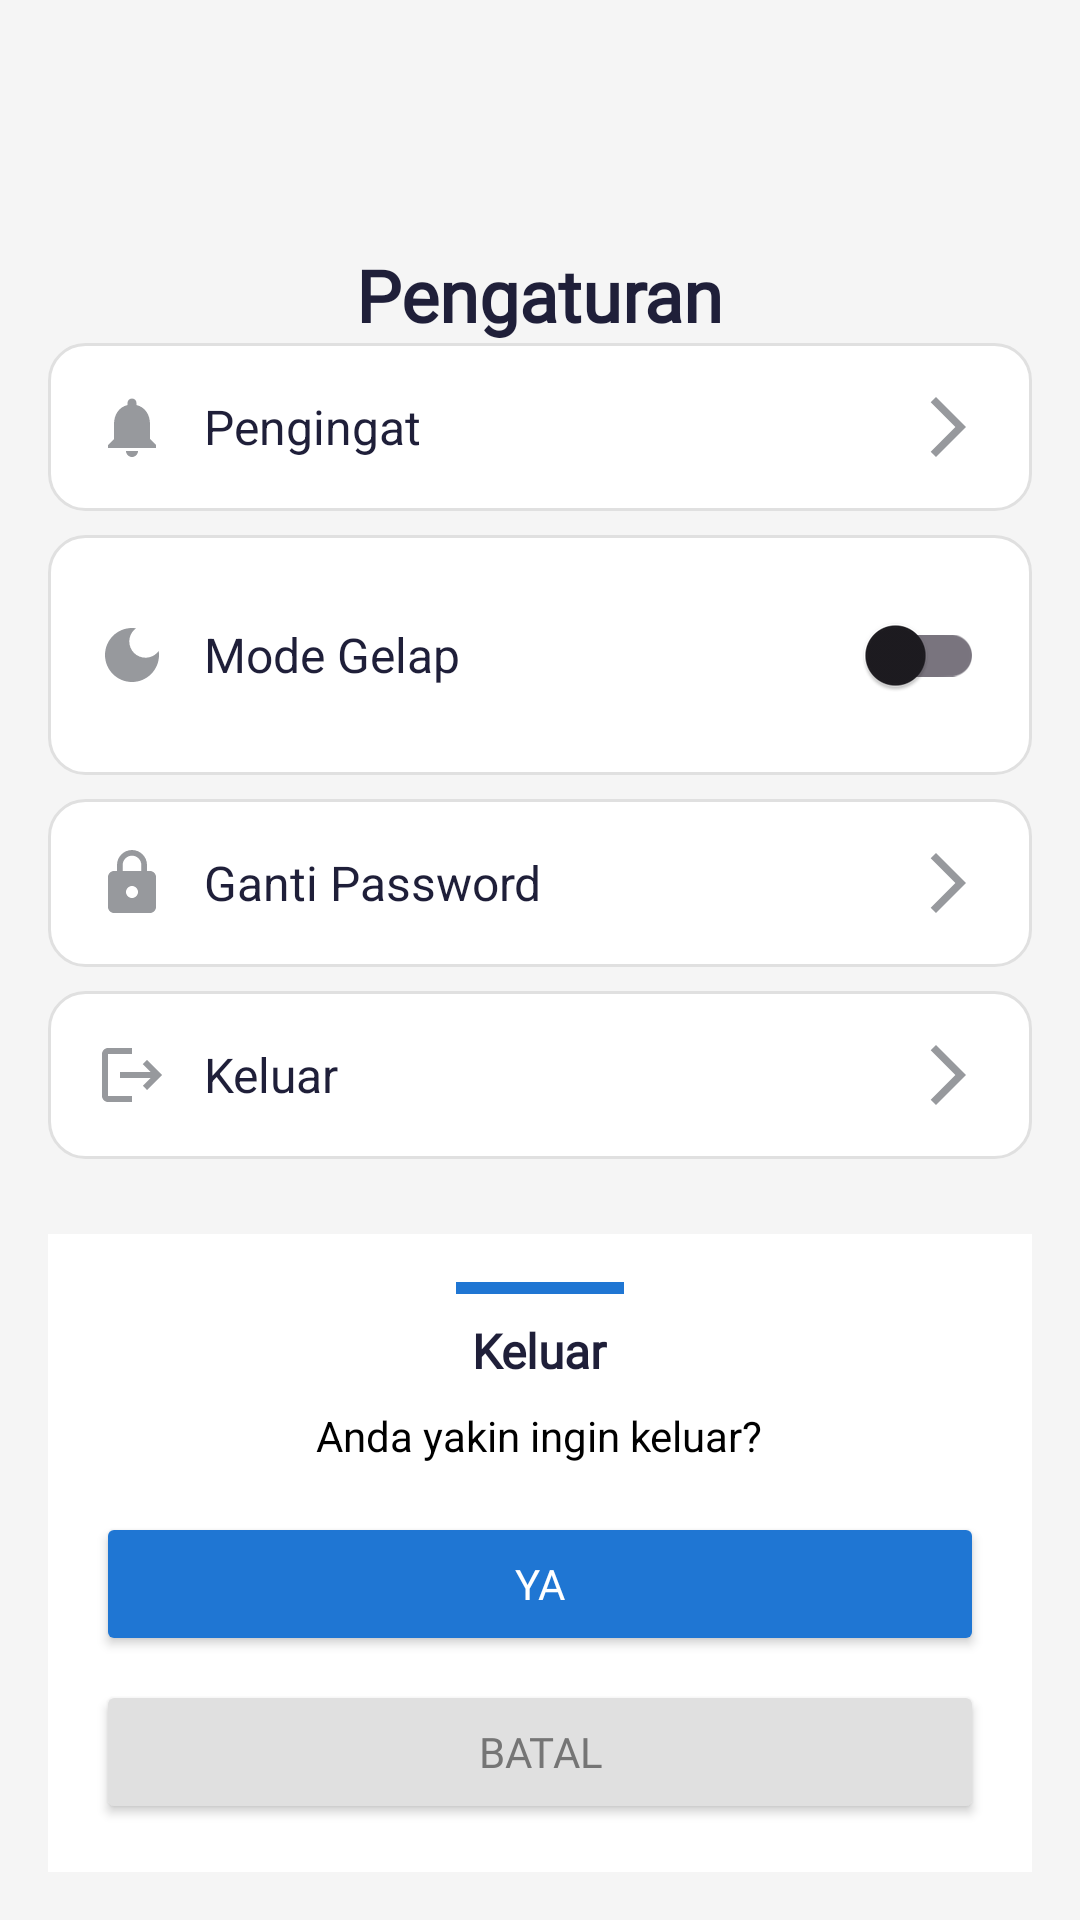

Icons on this 1080 x 1920 Android screen, each with the point to tap as (x=x, y=y):
arrow right: (x=948, y=427), (x=948, y=883), (x=948, y=1075)
reminder: (x=132, y=427)
